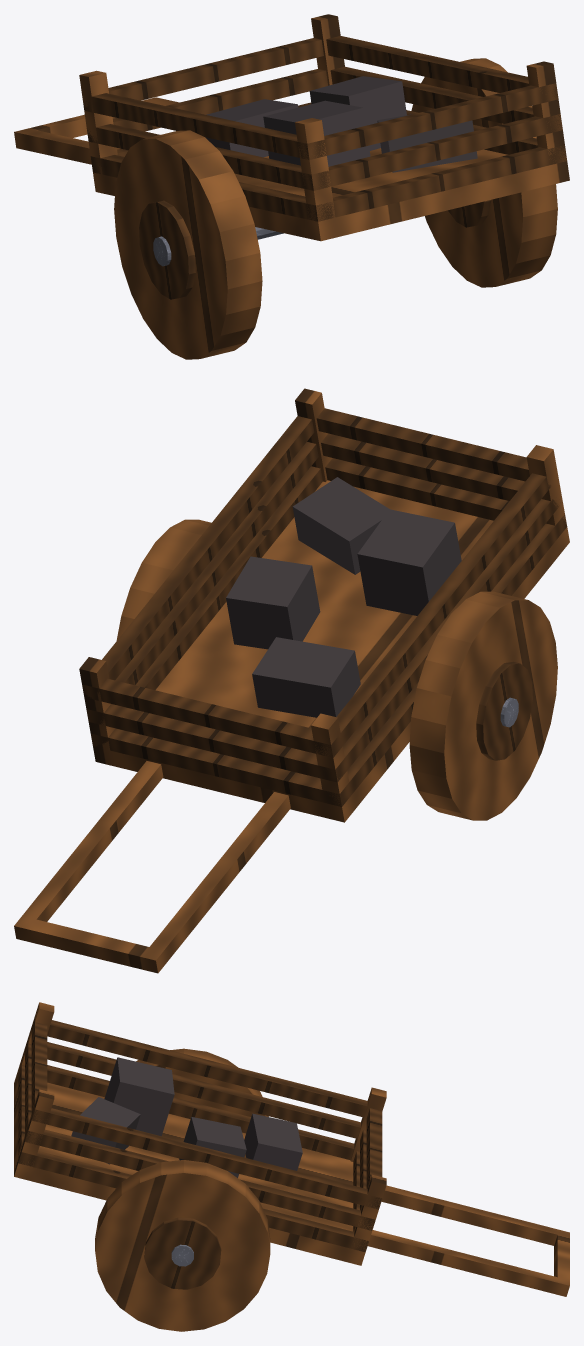
Rendered from holzwagen_t1_halb_world.fbx.
3 views of the same model, one above another, from view 1: azimuth 30°, elevation 25°; view 2: azimuth 150°, elevation 25°; view 3: azimuth 270°, elevation 25° (orthographic). The views are drawn at different scales.
Visible parts, largest first — view 1: Holzwagen_T1; view 2: Holzwagen_T1; view 3: Holzwagen_T1.
Part boxes in pixels (left/top/right/bottom): Holzwagen_T1: left=14, top=14, right=569, bottom=359; Holzwagen_T1: left=14, top=388, right=569, bottom=973; Holzwagen_T1: left=14, top=1002, right=569, bottom=1331.
Bounding box in the file's own units: 121 × 94.74 × 216.
